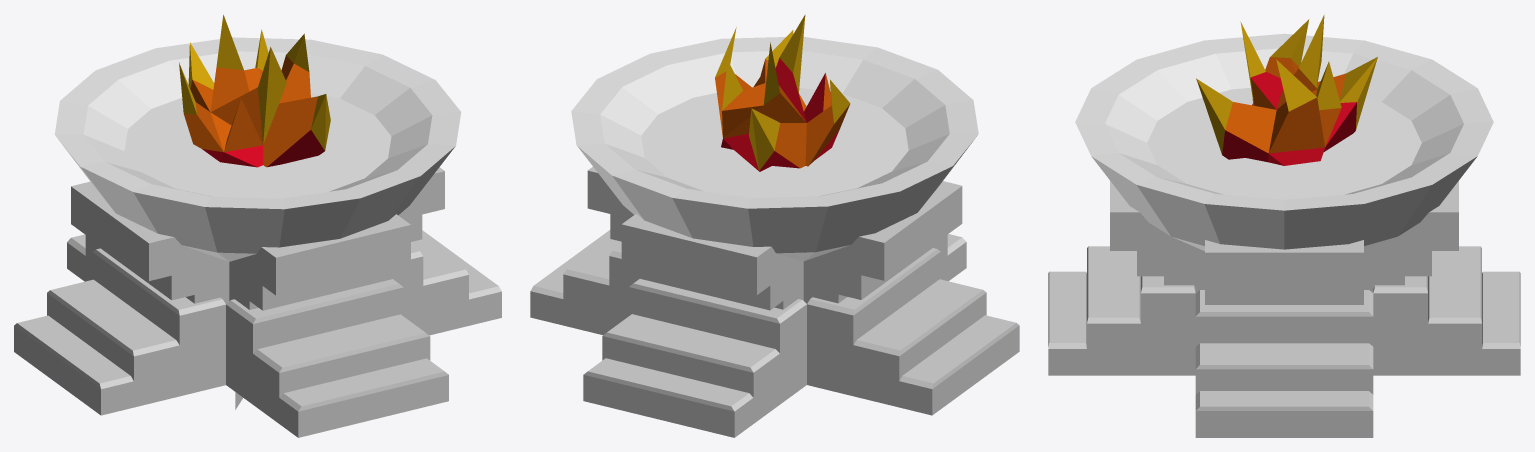
The model's file is bezier.fbx.
3 renders of one model, left to right at view 1: azimuth 30°, elevation 25°; view 2: azimuth 150°, elevation 25°; view 3: azimuth 270°, elevation 25°, orthographic. The views are drawn at different scales.
Parts seen in each view (by area): view 1: Cube, Sphere, Icosphere.001; view 2: Cube, Sphere, Icosphere.001; view 3: Cube, Sphere, Icosphere.001.
Part boxes in pixels (x1,y1,x2,y2): Cube: (14,167,501,437); Sphere: (54,37,461,261); Icosphere.001: (179,14,330,167); Cube: (530,167,1019,437); Sphere: (571,37,978,261); Icosphere.001: (715,14,850,171); Cube: (1048,181,1520,437); Sphere: (1075,33,1493,250); Icosphere.001: (1196,15,1377,165).
Bounding box in the file's own units: 532 × 444 × 532.
